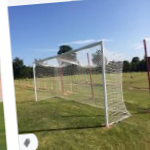goals: (30, 38, 133, 129)
